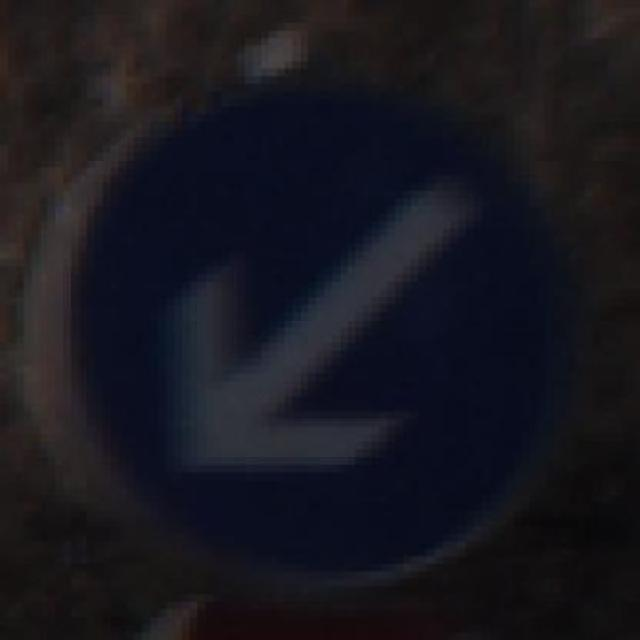Keep-Left: (24, 61, 616, 579)
